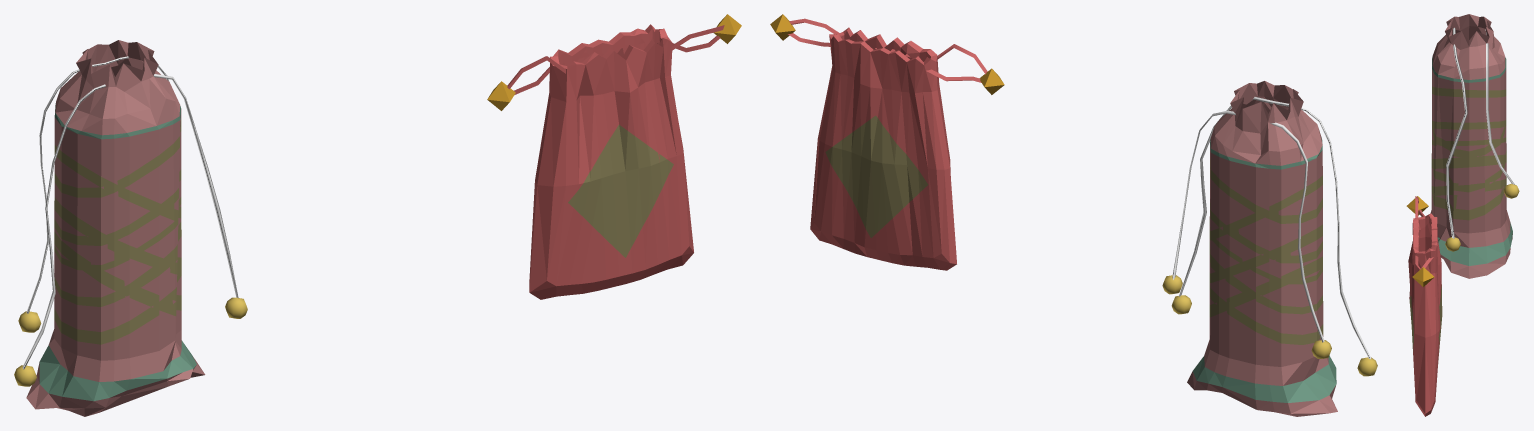
The model's file is JinNang_1.fbx.
3 views of the same model, side by side, from view 1: azimuth 30°, elevation 25°; view 2: azimuth 150°, elevation 25°; view 3: azimuth 270°, elevation 25° (orthographic). The views are drawn at different scales.
Parts seen in each view (by area): view 1: jinnang1, JinNang6; view 2: jinnang1, JinNang6; view 3: jinnang1, JinNang6.
Boxes of the visible parts, x1,y1,x2,y2 form: jinnang1: (14,40,247,416); JinNang6: (487,14,741,299); jinnang1: (1162,81,1377,416); JinNang6: (770,14,1004,270); jinnang1: (1430,14,1519,278); JinNang6: (1406,196,1442,416).
Bounding box in the file's own units: 6.73 × 3.11 × 1.38.
